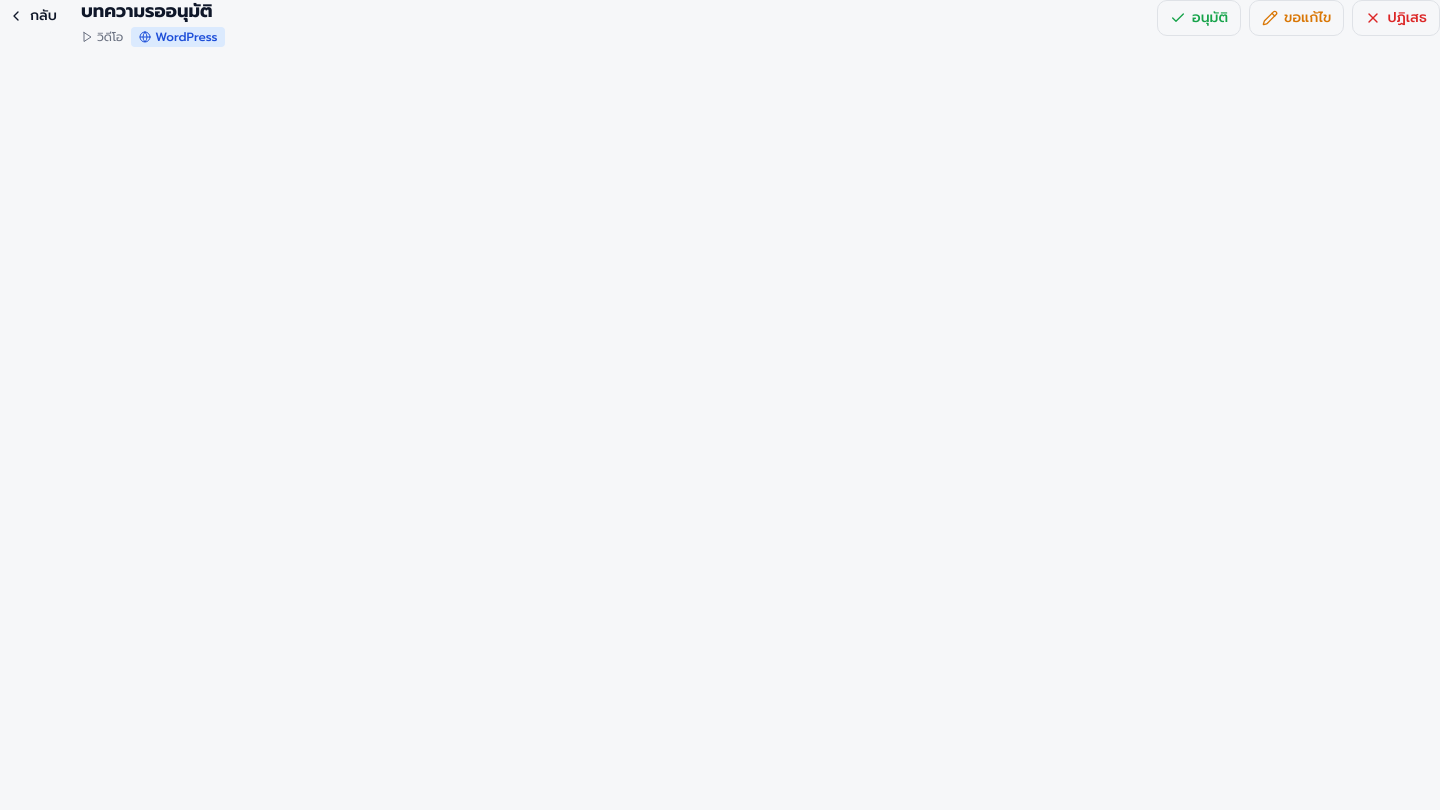
Scenario: ContentDetailView — SEO/AEO เป็นข้อมูลประกอบการตัดสินใจ ไม่บล็อกการอนุมัติ › วิดีโอไม่ต้องตรวจ SEO/AEO — ไม่ fetch และปุ่มยืนยันใช้งานได้ทันที
Click the button "อนุมัติ": coordinates (1199, 18) top-left (1157, 0), bottom-right (1241, 36)
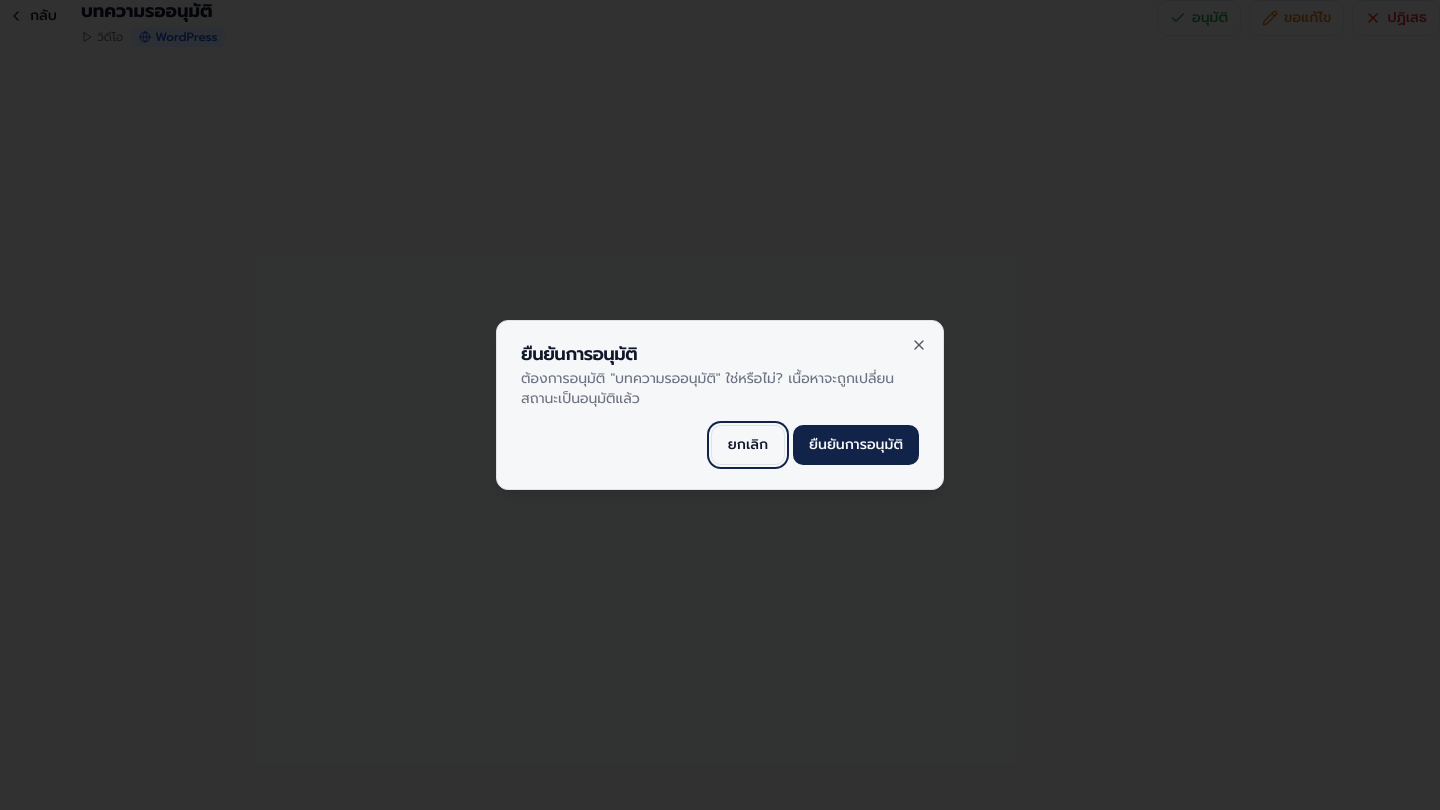
Expected: the button "ยืนยันการอนุมัติ" is enabled, top-left (793, 425), bottom-right (919, 465)
